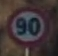limite 90: (6, 7, 49, 47)
